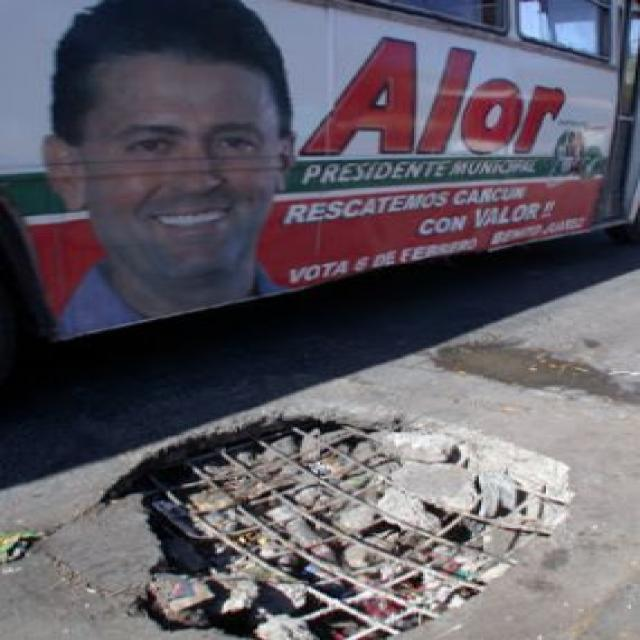pothole: (99, 400, 588, 638)
